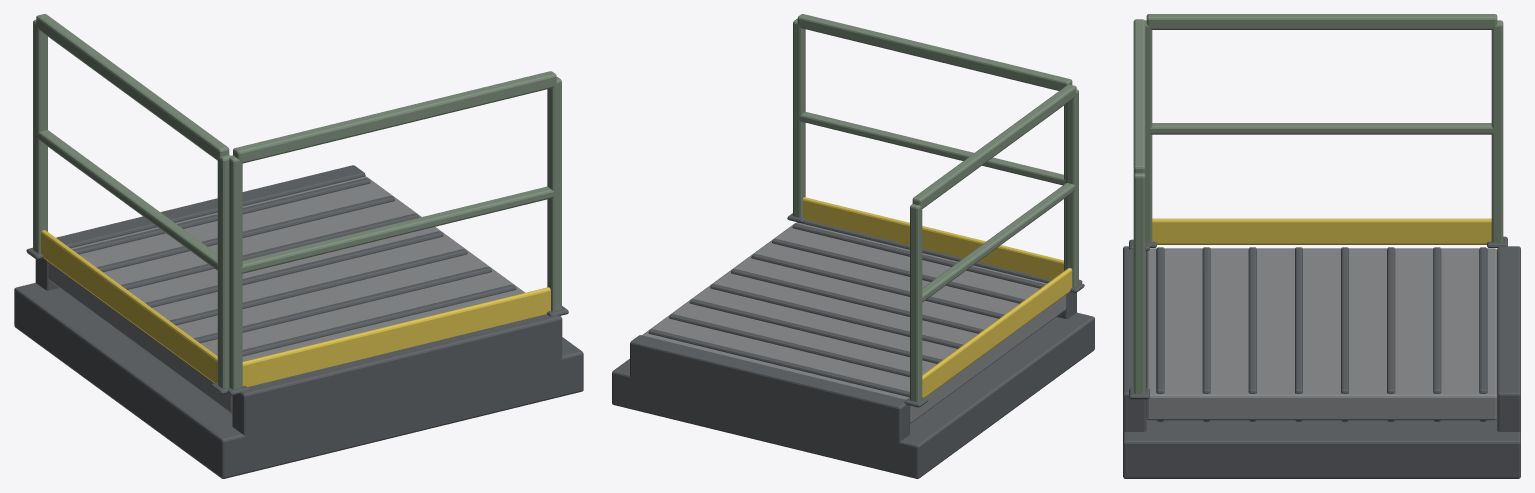
Rendered from catwalk_corner.fbx.
The picture shows the model from 3 angles, left to right: view 1: azimuth 30°, elevation 25°; view 2: azimuth 150°, elevation 25°; view 3: azimuth 270°, elevation 25°; orthographic projection. The views are drawn at different scales.
Visible parts, largest first — view 1: catwalk_corner; view 2: catwalk_corner; view 3: catwalk_corner.
Boxes of the visible parts, x1,y1,x2,y2 form: catwalk_corner: (14,14,583,478); catwalk_corner: (612,14,1094,478); catwalk_corner: (1123,14,1520,478).
Bounding box in the file's own units: 1.7 × 1.43 × 1.7.
